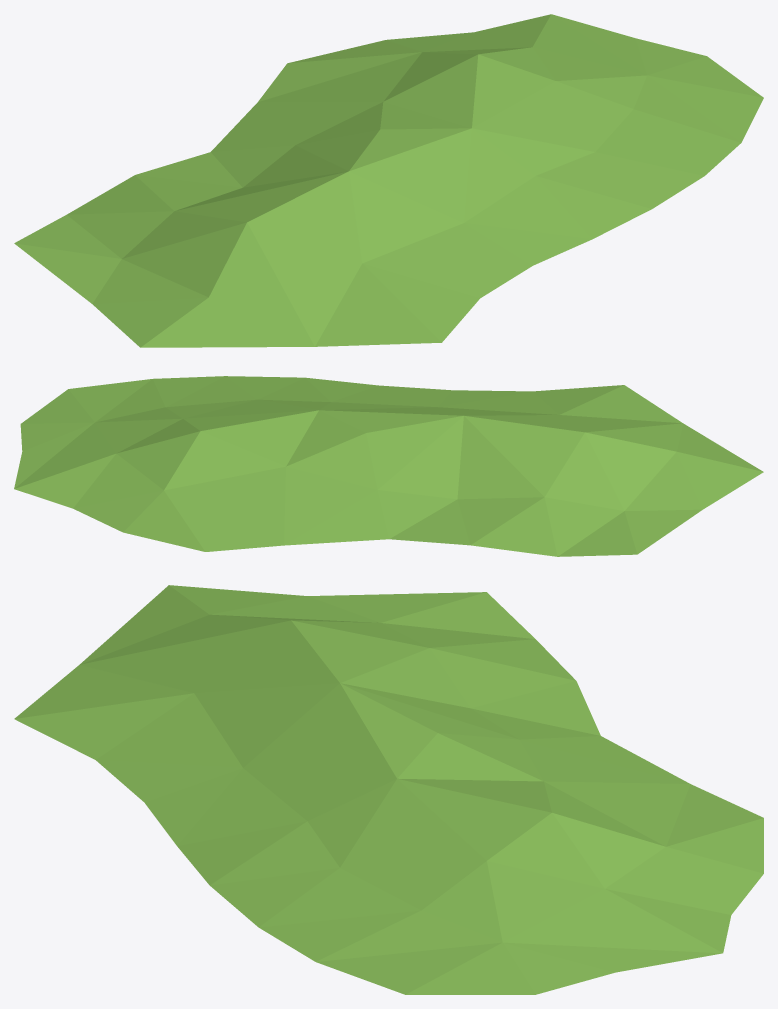
Rendered from MT_Mountain_S_a_04_LOD.fbx.
3 renders of one model, top to bottom at view 1: azimuth 30°, elevation 25°; view 2: azimuth 150°, elevation 25°; view 3: azimuth 270°, elevation 25°, orthographic. The views are drawn at different scales.
Visible parts, largest first — view 1: MT_Mountain_S_a_04_LOD0; view 2: MT_Mountain_S_a_04_LOD0; view 3: MT_Mountain_S_a_04_LOD0.
Boxes of the visible parts, box(x1,y1,x2,y2) form: MT_Mountain_S_a_04_LOD0: box(14, 14, 763, 347); MT_Mountain_S_a_04_LOD0: box(14, 376, 763, 556); MT_Mountain_S_a_04_LOD0: box(14, 585, 763, 994).
Size of what is drawn, in the model's own units: 2305 by 176 by 1797.
